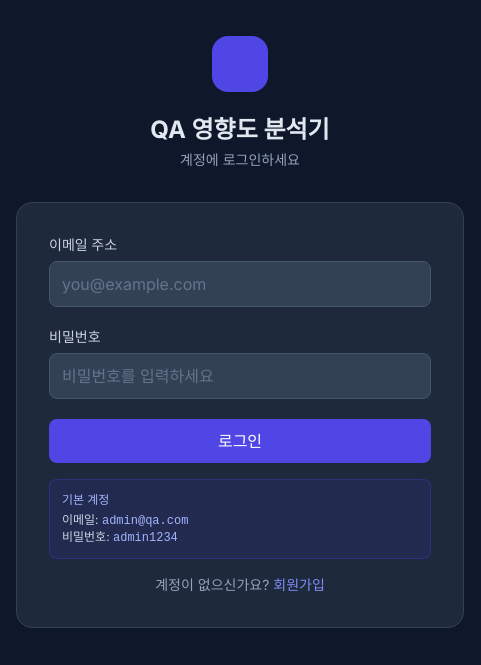
C10 — LoginPage › error message has role=alert for accessibility
The image size is (481, 665).
Click the button with test id "login-btn" at (240, 441), box [49, 419, 431, 463]
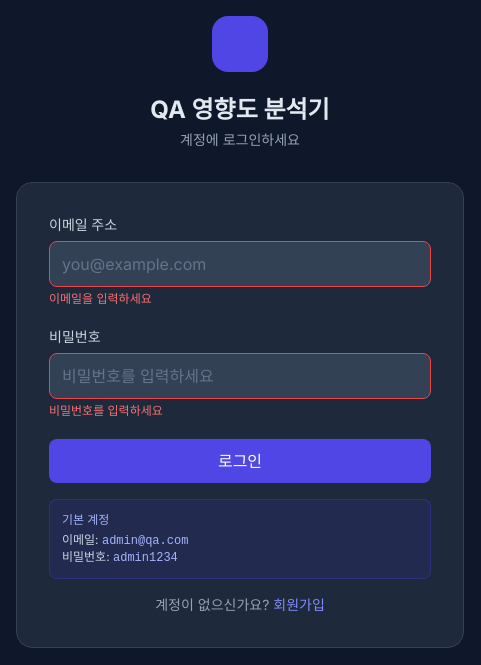
Result: the message "이메일을 입력하세요" is shown at [49, 291, 152, 306]
